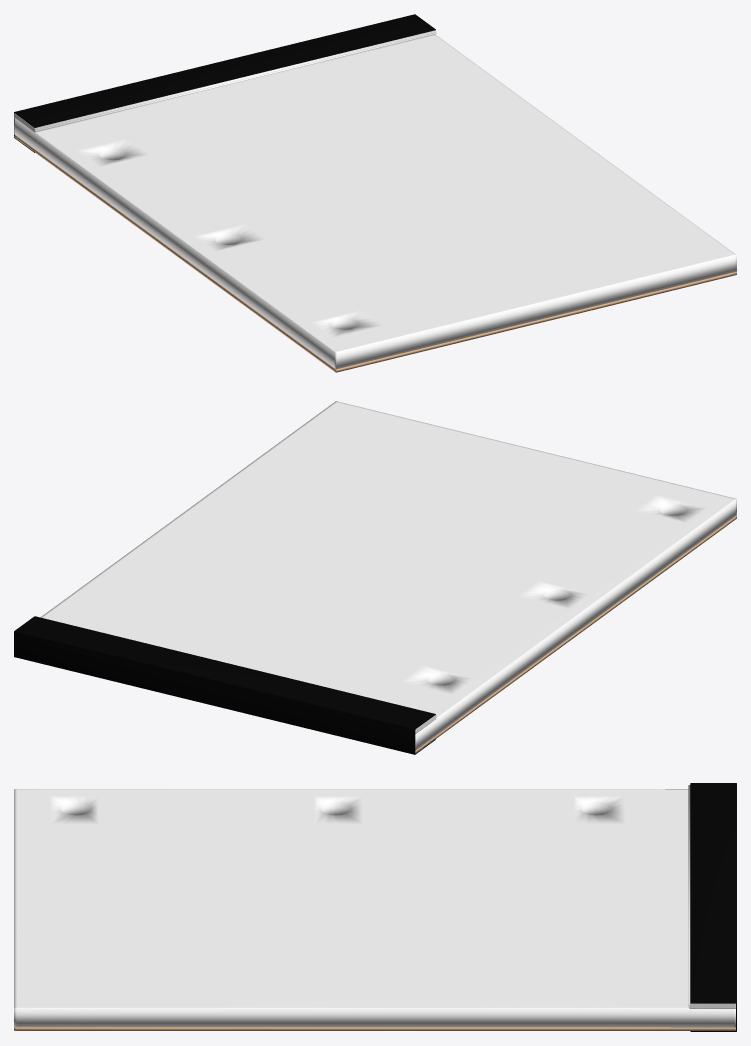
Rendered from pad.glb.
3 views of the same model, one above another, from view 1: azimuth 30°, elevation 25°; view 2: azimuth 150°, elevation 25°; view 3: azimuth 270°, elevation 25° (orthographic). The views are drawn at different scales.
Parts seen in each view (by area): view 1: Legal Note Pad White; view 2: Legal Note Pad White; view 3: Legal Note Pad White.
Part boxes in pixels (x1=…): Legal Note Pad White: x1=14, y1=14, x2=736, y2=372; Legal Note Pad White: x1=14, y1=401, x2=736, y2=754; Legal Note Pad White: x1=14, y1=783, x2=736, y2=1031.
Bounding box in the file's own units: 0.2159 × 0.0133 × 0.3.
